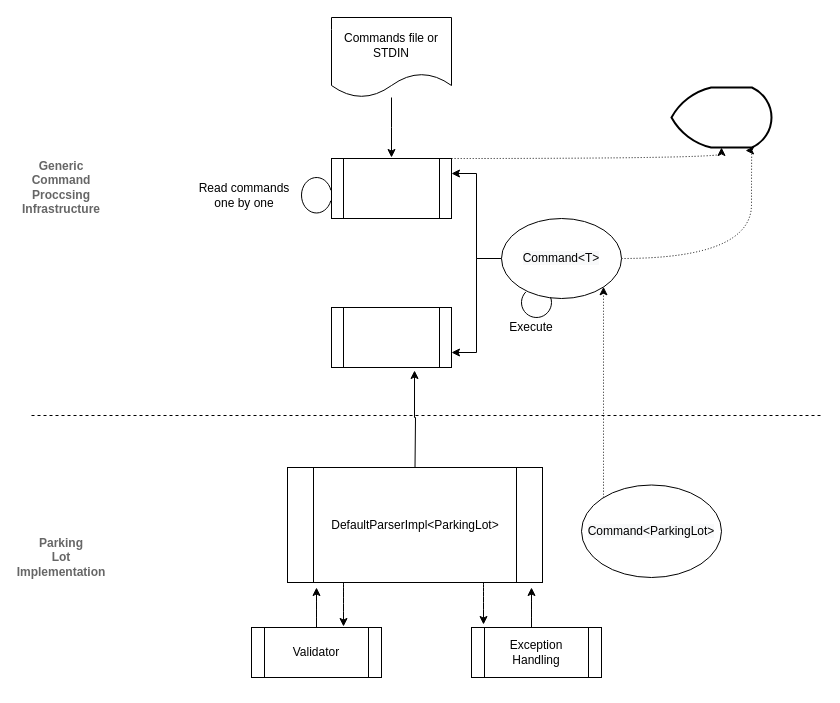
Image size: 840x703. Some labels were removed from this diagram. Each missing label, with the box of its shape:
IOProcessor: (330, 158, 452, 218)
Parser<T>: (330, 306, 452, 368)
STDOUT or PrintStream or Writer: (670, 86, 772, 148)
